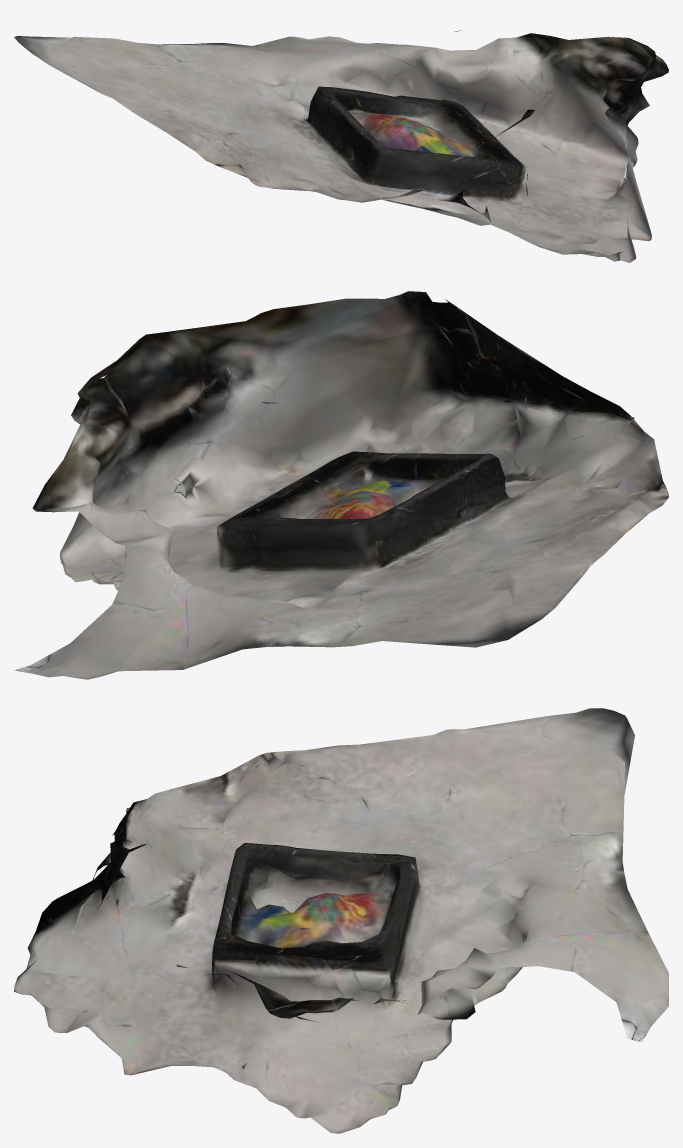
The model's file is hall.glb.
3 renders of one model, top to bottom at view 1: azimuth 30°, elevation 25°; view 2: azimuth 150°, elevation 25°; view 3: azimuth 270°, elevation 25°, orthographic. The views are drawn at different scales.
Size of the model in its own units: 2.14 by 0.7369 by 2.24.
1 material, 1 textured.
